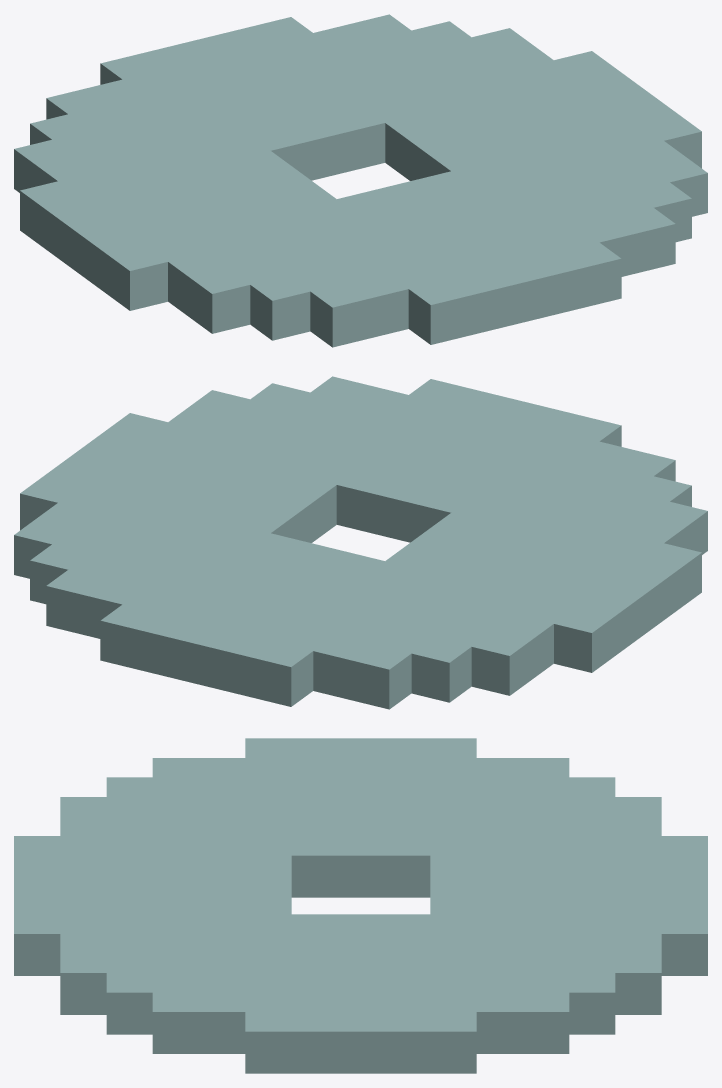
Rendered from FloatingPlatform3.obj.
3 renders of one model, top to bottom at view 1: azimuth 30°, elevation 25°; view 2: azimuth 150°, elevation 25°; view 3: azimuth 270°, elevation 25°, orthographic. The views are drawn at different scales.
Parts seen in each view (by area): view 1: FloatingPlatform3; view 2: FloatingPlatform3; view 3: FloatingPlatform3.
Part boxes in pixels (box(x1,y1,x2,y2)): FloatingPlatform3: box(14, 14, 707, 347); FloatingPlatform3: box(14, 376, 707, 709); FloatingPlatform3: box(14, 738, 707, 1073).
Size of the model in its own units: 15 by 1 by 15.
1 material, 1 textured.
